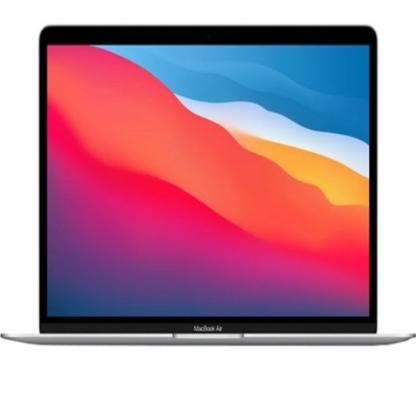NOTEBOOK: (1, 17, 416, 363)
